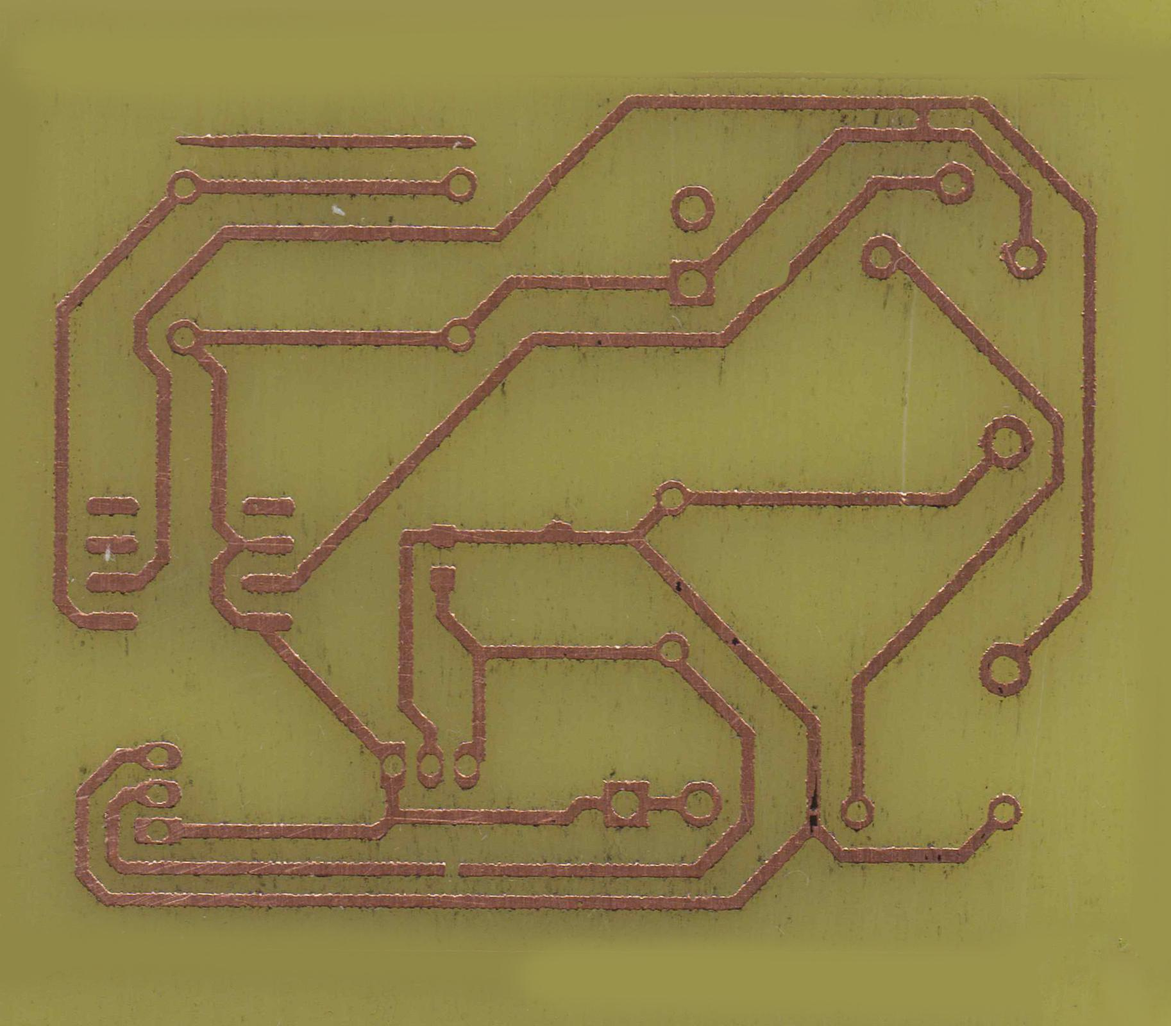mouse_bite: (750, 253, 799, 304)
open_circuit: (431, 855, 473, 887)
short: (902, 92, 941, 147)
spur: (532, 513, 584, 556)
spurious_copper: (167, 126, 479, 156)
